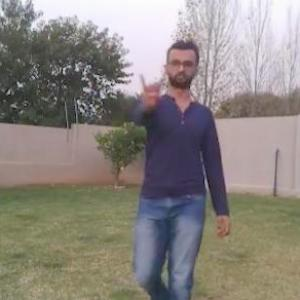takeoff-hand: (136, 60, 166, 106)
